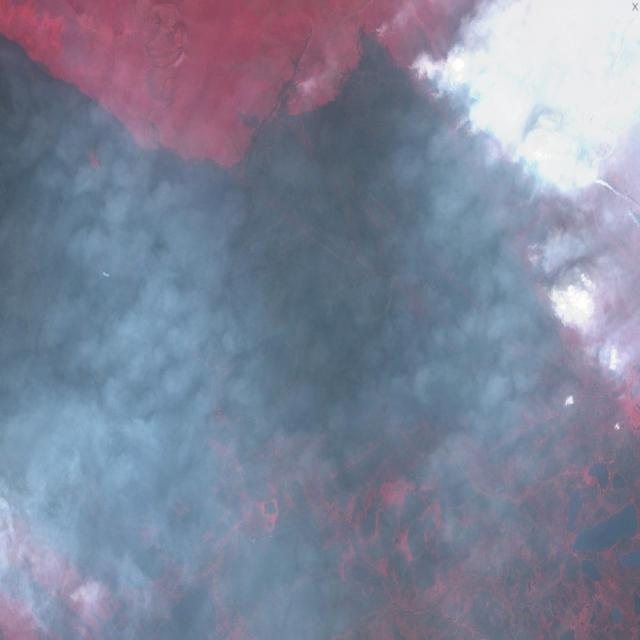fire: (401, 51, 627, 385)
